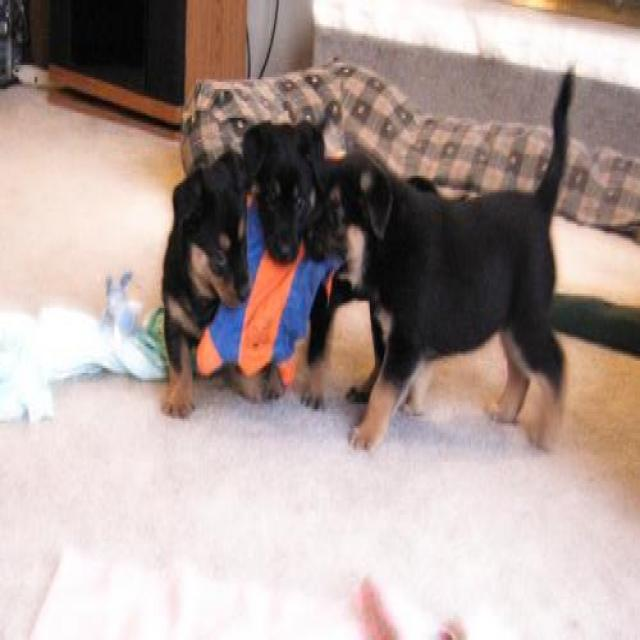dogs: (304, 68, 578, 452), (159, 151, 250, 420), (240, 120, 328, 264)
